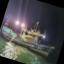fishing boat: (0, 10, 62, 60)
